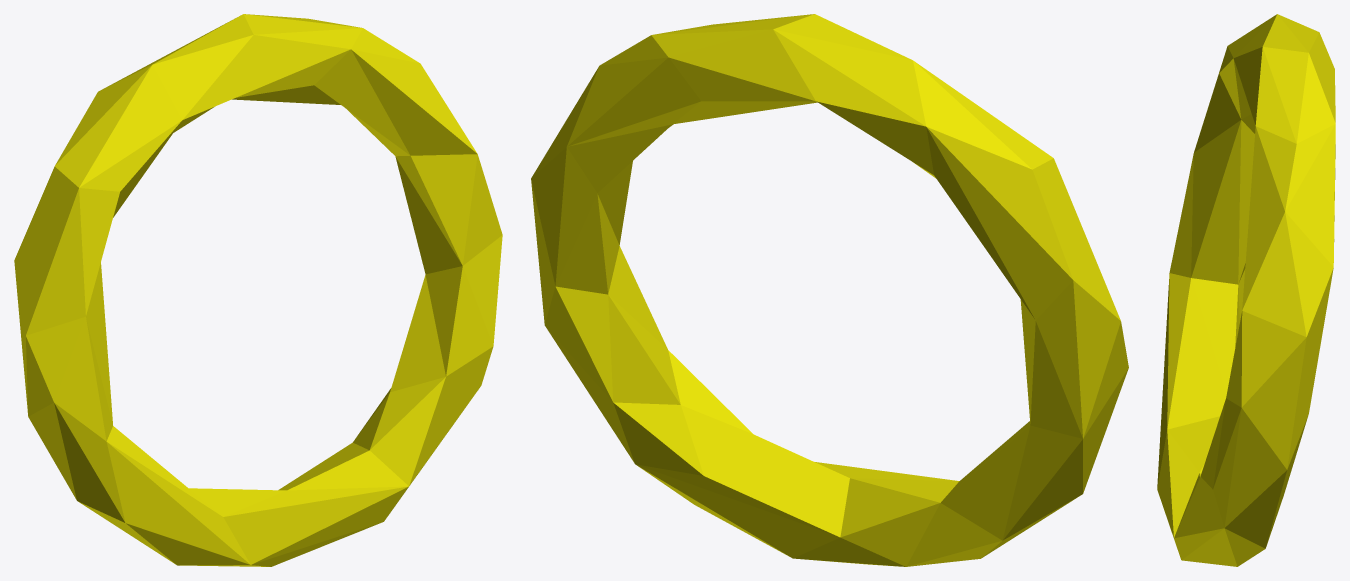
The model's file is PiercingsSide.glb.
The picture shows the model from 3 angles, left to right: view 1: azimuth 30°, elevation 25°; view 2: azimuth 150°, elevation 25°; view 3: azimuth 270°, elevation 25°; orthographic projection. The views are drawn at different scales.
Visible parts, largest first — view 1: Circle.002; view 2: Circle.002; view 3: Circle.002.
Part boxes in pixels (x1,y1,x2,y2): Circle.002: (14, 14, 502, 566); Circle.002: (531, 14, 1128, 566); Circle.002: (1157, 14, 1335, 566).
Size of the model in its own units: 0.1182 by 0.1172 by 0.0381.
